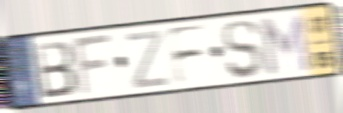B: (32, 38, 78, 101)
F: (72, 31, 115, 99), (165, 21, 208, 88)
M: (257, 11, 314, 77)
S: (220, 17, 264, 82)
Z: (124, 28, 170, 91)
